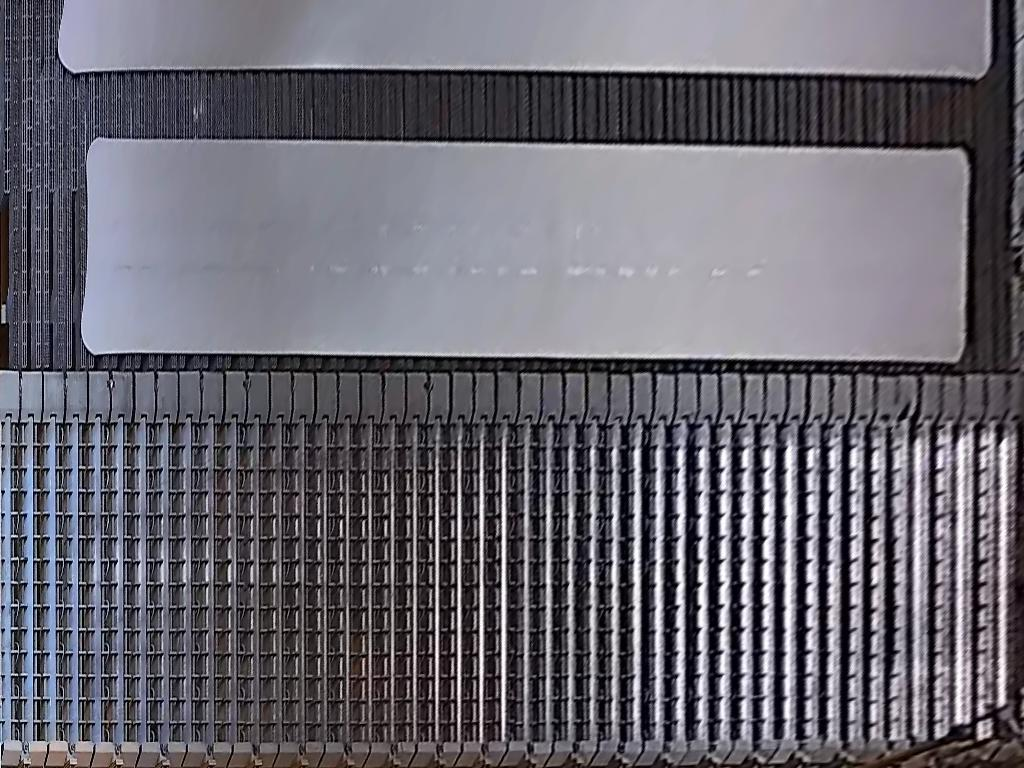steel: (81, 134, 967, 364), (57, 1, 991, 77)
